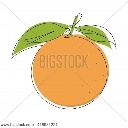orange: (21, 17, 113, 109)
